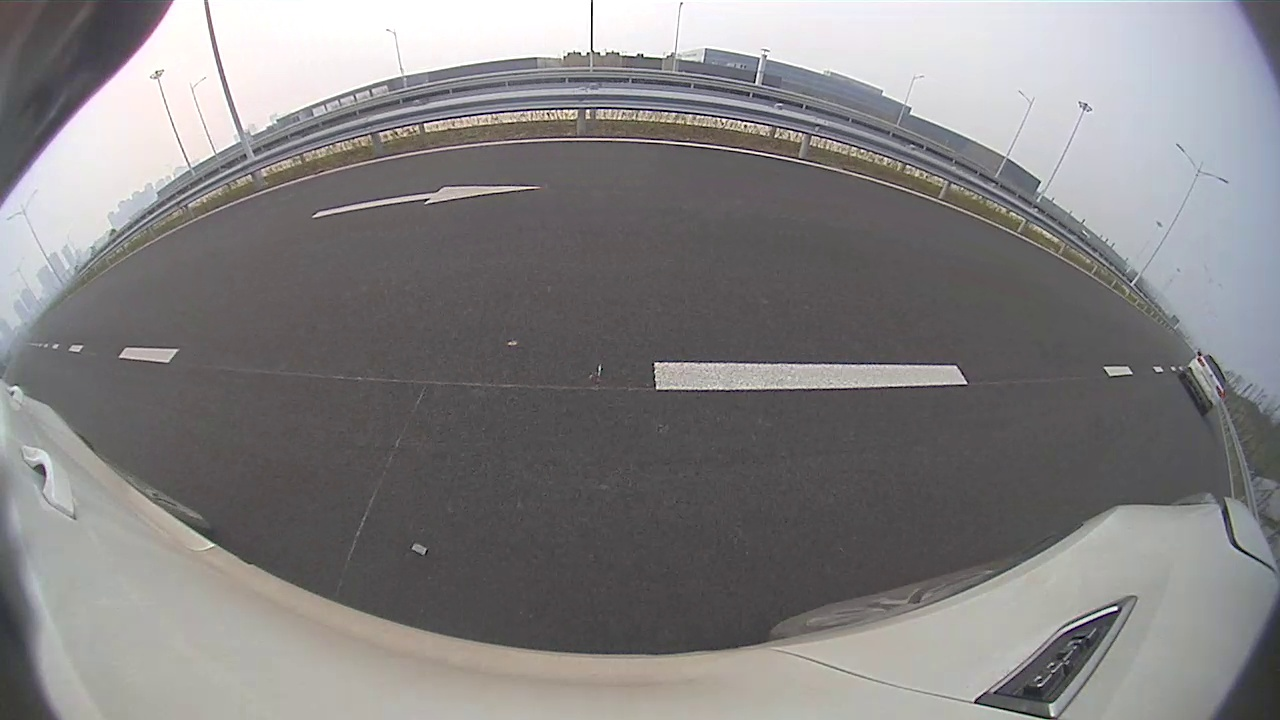car: (1179, 352, 1228, 416)
